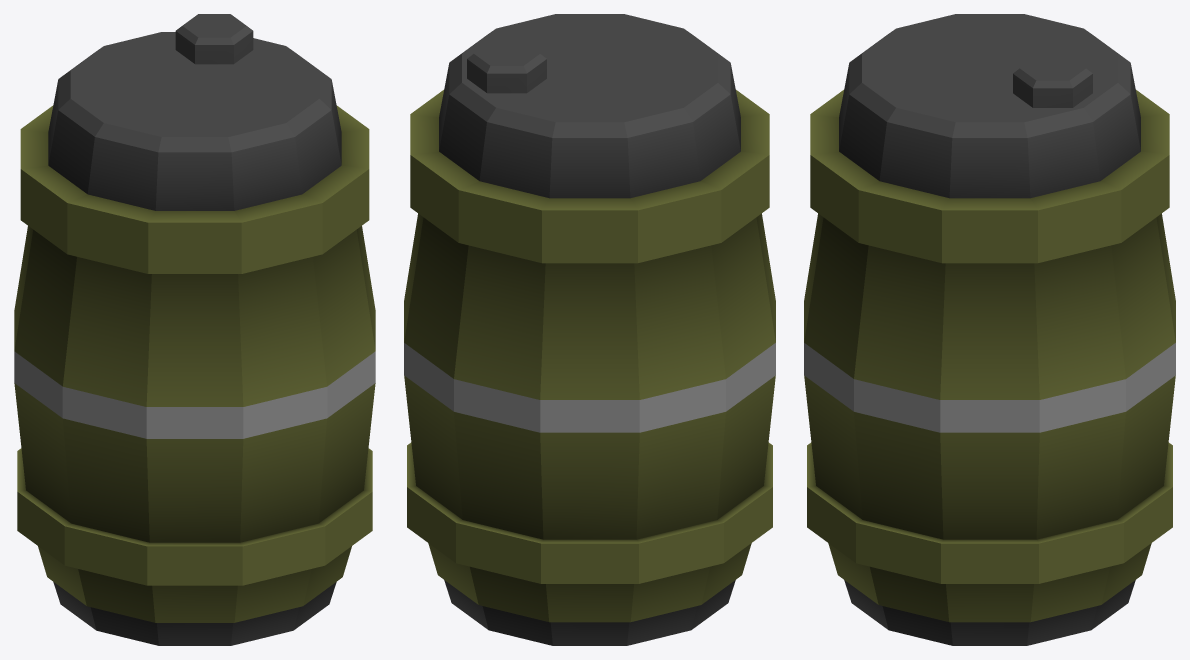
The model's file is storage-barrel.glb.
3 renders of one model, left to right at view 1: azimuth 30°, elevation 25°; view 2: azimuth 150°, elevation 25°; view 3: azimuth 270°, elevation 25°, orthographic. The views are drawn at different scales.
Visible parts, largest first — view 1: barrel-storage; view 2: barrel-storage; view 3: barrel-storage.
Part boxes in pixels (x1,y1,x2,y2): barrel-storage: (14, 14, 375, 645); barrel-storage: (404, 14, 775, 645); barrel-storage: (804, 14, 1175, 645).
Size of the model in its own units: 0.65 by 1.05 by 0.65.
Materials: 1 (1 with a texture image).
